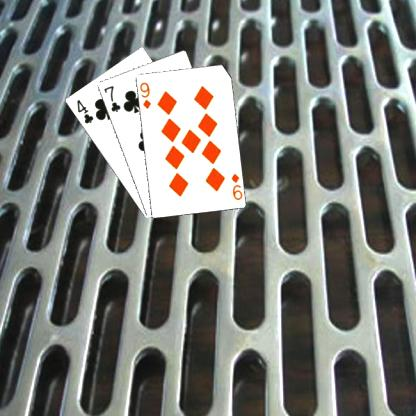4C: (74, 96, 94, 124)
7C: (100, 83, 122, 113)
9D: (137, 79, 152, 110), (228, 170, 242, 201)
